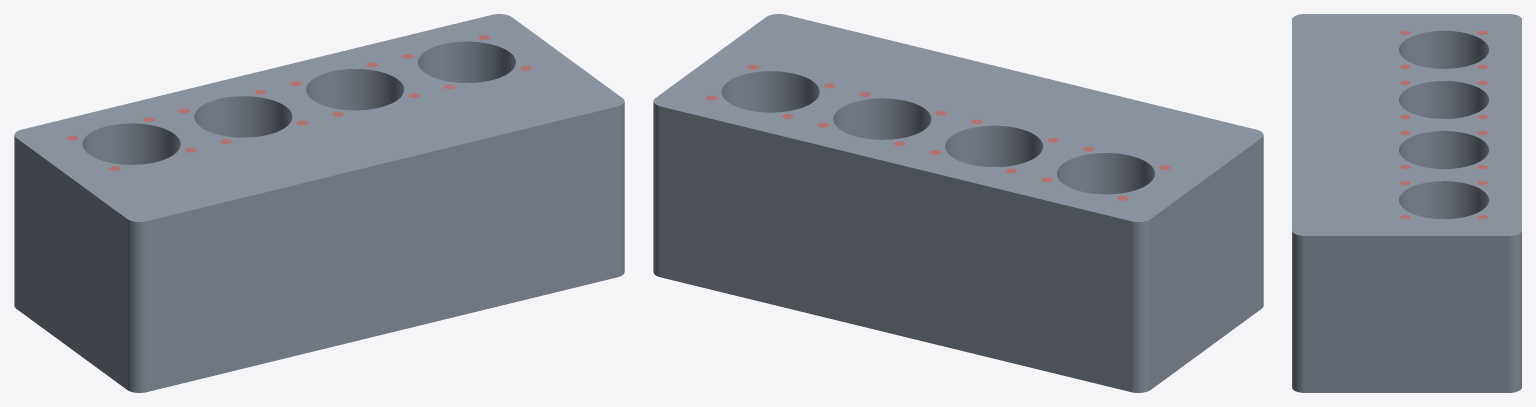
The model's file is step_05.glb.
The picture shows the model from 3 angles, left to right: view 1: azimuth 30°, elevation 25°; view 2: azimuth 150°, elevation 25°; view 3: azimuth 270°, elevation 25°; orthographic projection. The views are drawn at different scales.
Visible parts, largest first — view 1: part__cylinder block (deck), removed__cylinder block (deck); view 2: part__cylinder block (deck), removed__cylinder block (deck); view 3: part__cylinder block (deck), removed__cylinder block (deck).
Boxes of the visible parts, left/top/right/bottom form: part__cylinder block (deck): left=14, top=14, right=624, bottom=392; removed__cylinder block (deck): left=67, top=35, right=531, bottom=171; part__cylinder block (deck): left=653, top=14, right=1263, bottom=392; removed__cylinder block (deck): left=706, top=64, right=1170, bottom=200; part__cylinder block (deck): left=1292, top=14, right=1521, bottom=392; removed__cylinder block (deck): left=1400, top=30, right=1487, bottom=219.
Bounding box in the file's own units: 546 × 180 × 239.
